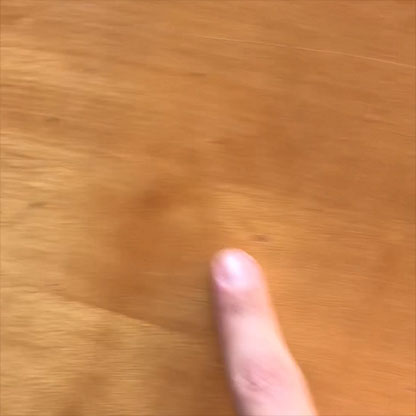fingertip: (202, 238, 277, 305)
